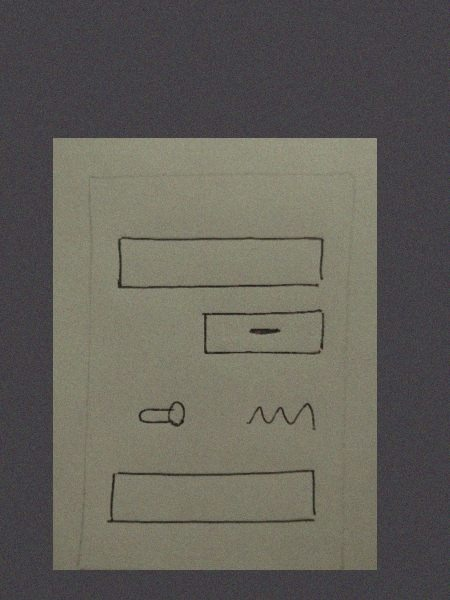button: (197, 305, 330, 365)
switch: (134, 395, 191, 434)
text: (234, 394, 322, 435)
text_input: (100, 466, 321, 534), (113, 232, 331, 297)
